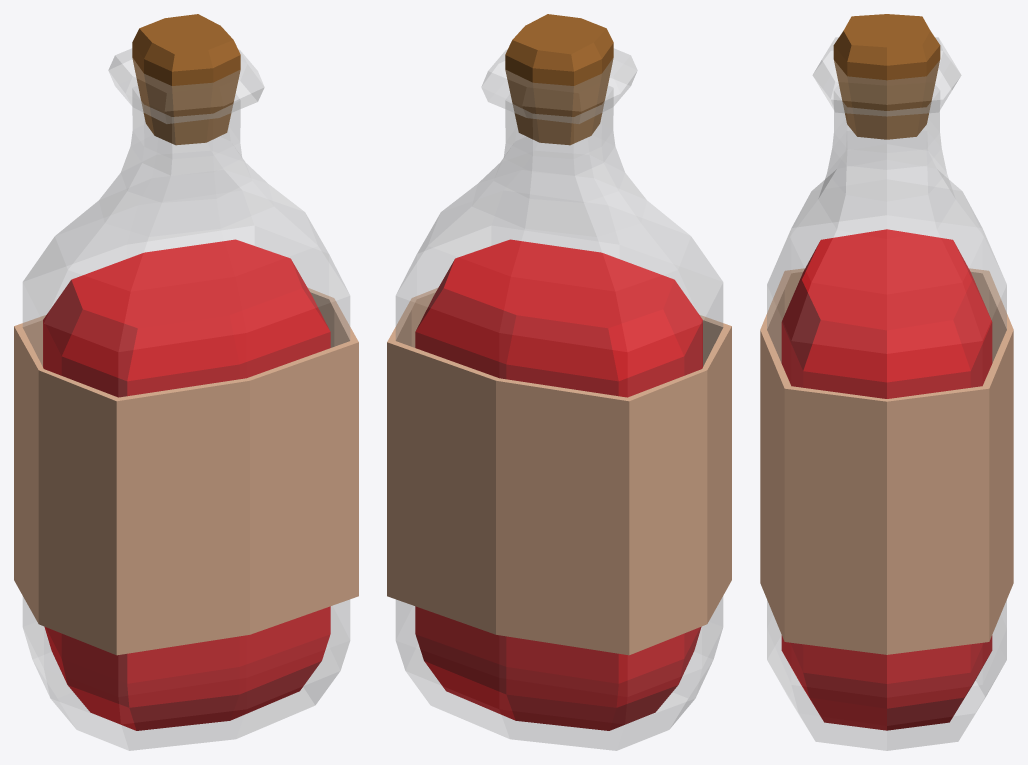
The model's file is PotionBottle2Textured.fbx.
3 renders of one model, left to right at view 1: azimuth 30°, elevation 25°; view 2: azimuth 150°, elevation 25°; view 3: azimuth 270°, elevation 25°, orthographic.
Parts seen in each view (by area): view 1: Bottle2, Bottle2Potion; view 2: Bottle2, Bottle2Potion; view 3: Bottle2, Bottle2Potion.
Boxes of the visible parts, bbox=[...] form: Bottle2: bbox=[14, 14, 358, 750]; Bottle2Potion: bbox=[43, 239, 330, 730]; Bottle2: bbox=[387, 14, 731, 750]; Bottle2Potion: bbox=[415, 239, 702, 730]; Bottle2: bbox=[760, 14, 1013, 750]; Bottle2Potion: bbox=[781, 229, 992, 730].
Size of the model in its own units: 7.17 by 15.5 by 5.34.
